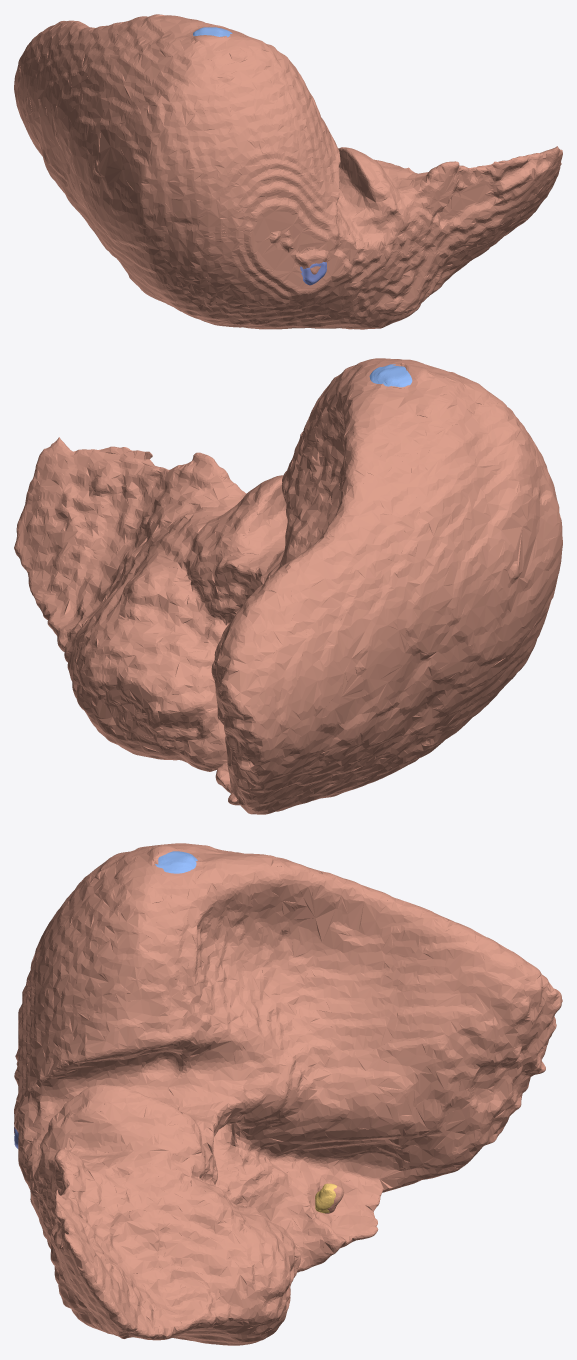
The model's file is liver_with_lesions.glb.
The picture shows the model from 3 angles, top to bottom: view 1: azimuth 30°, elevation 25°; view 2: azimuth 150°, elevation 25°; view 3: azimuth 270°, elevation 25°; orthographic projection. The views are drawn at different scales.
Parts seen in each view (by area): view 1: Liver; view 2: Liver, Lesion_L03; view 3: Liver, Lesion_L03.
Part boxes in pixels (box(x1,y1,x2,y2)): Liver: box(14, 14, 562, 329); Liver: box(14, 358, 562, 814); Lesion_L03: box(369, 364, 412, 387); Liver: box(14, 843, 562, 1345); Lesion_L03: box(155, 851, 197, 873).
Bounding box in the file's own units: 222 × 159 × 203.
